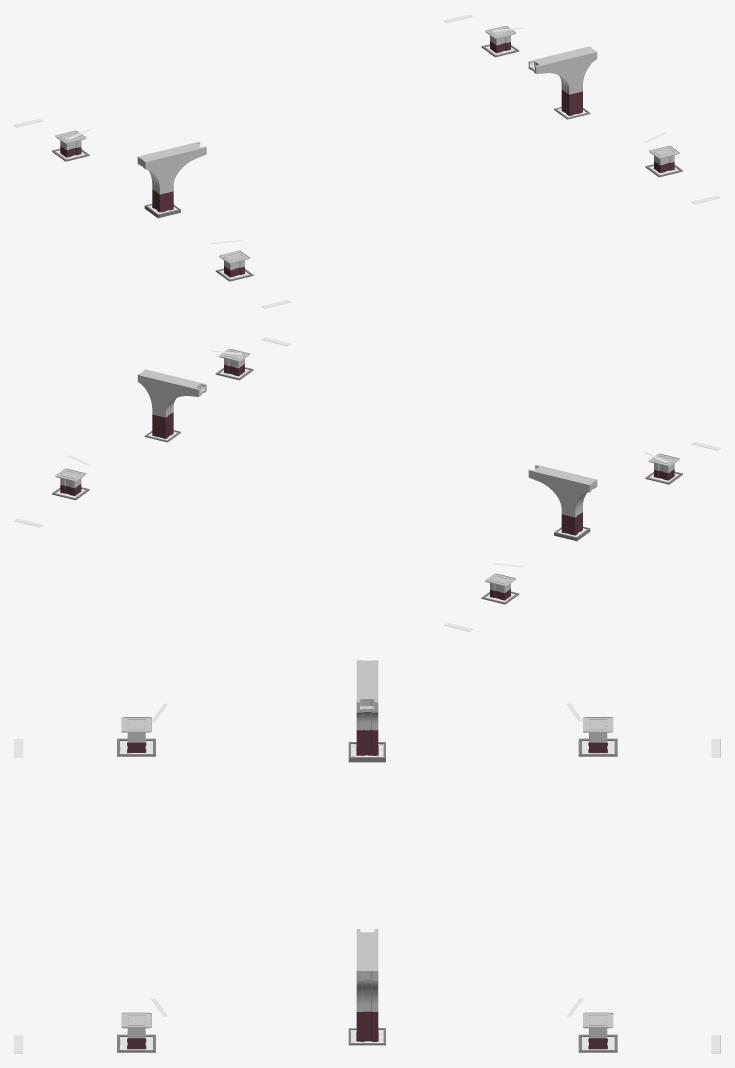
3 views of the same model, one above another, from view 1: azimuth 30°, elevation 25°; view 2: azimuth 150°, elevation 25°; view 3: azimuth 270°, elevation 25° (orthographic). The views are drawn at different scales.
Visible parts, largest first — view 1: SM_H_Building_FutureTech_Bridge_01I; view 2: SM_H_Building_FutureTech_Bridge_01I; view 3: SM_H_Building_FutureTech_Bridge_01I.
Part boxes in pixels (x1,y1,x2,y2): SM_H_Building_FutureTech_Bridge_01I: [14, 14, 720, 308]; SM_H_Building_FutureTech_Bridge_01I: [14, 337, 720, 631]; SM_H_Building_FutureTech_Bridge_01I: [14, 660, 720, 1053].
Bounding box in the file's own units: 2199 × 2309 × 279.
